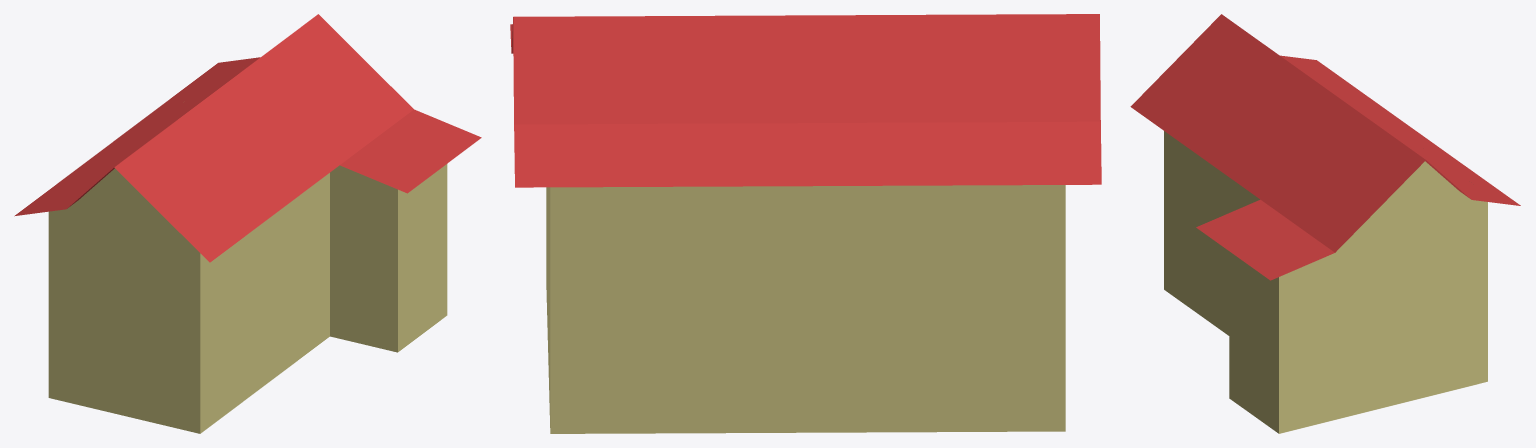
The picture shows the model from 3 angles, left to right: view 1: azimuth 30°, elevation 25°; view 2: azimuth 150°, elevation 25°; view 3: azimuth 270°, elevation 25°; orthographic projection. The views are drawn at different scales.
Size of the model in its own units: 15.16 by 12 by 8.43.
